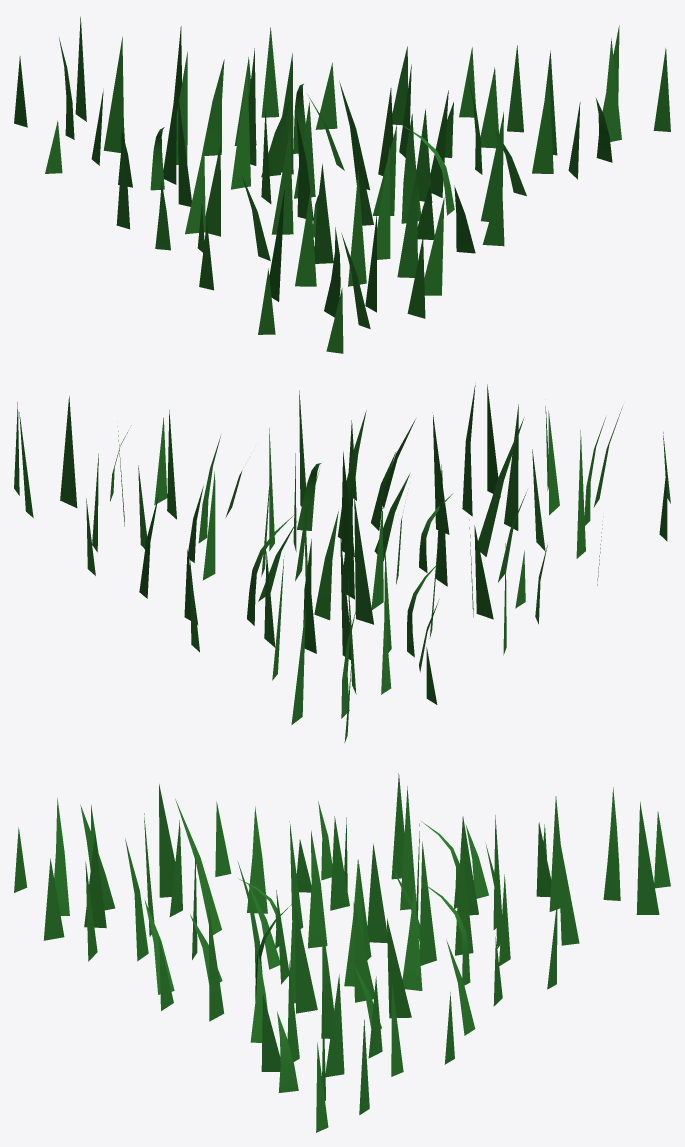
The model's file is grass_patches_set_triangle_mini_light.fbx.
3 renders of one model, top to bottom at view 1: azimuth 30°, elevation 25°; view 2: azimuth 150°, elevation 25°; view 3: azimuth 270°, elevation 25°, orthographic. The views are drawn at different scales.
Parts seen in each view (by area): view 1: grass_ground_paint_A686, grass_ground_paint_B143, grass_ground_paint_A553, grass_ground_paint_A417, grass_ground_paint_A420, grass_ground_paint_B194, grass_ground_paint_A355, grass_ground_paint_A321, grass_ground_paint_B244, grass_ground_paint_A550, grass_ground_paint_A354, grass_ground_paint_A584 (+47 smaller); view 2: grass_ground_paint_A686, grass_ground_paint_A584, grass_ground_paint_B194, grass_ground_paint_A550, grass_ground_paint_B218, grass_ground_paint_B244, grass_ground_paint_A454, grass_ground_paint_A420, grass_ground_paint_A484, grass_ground_paint_B143, grass_ground_paint_A252, grass_ground_paint_A321 (+14 smaller); view 3: grass_ground_paint_A683, grass_ground_paint_A187, grass_ground_paint_B320, grass_ground_paint_A157, grass_ground_paint_A486, grass_ground_paint_A453, grass_ground_paint_A616, grass_ground_paint_B67, grass_ground_paint_A484, grass_ground_paint_C102, grass_ground_paint_A283, grass_ground_paint_B197 (+38 smaller).
Boxes of the visible parts, x1,y1,x2,y2 form: grass_ground_paint_A686: [231, 67, 250, 189]; grass_ground_paint_B143: [397, 167, 417, 277]; grass_ground_paint_A553: [103, 36, 123, 152]; grass_ground_paint_A417: [532, 75, 553, 173]; grass_ground_paint_A420: [271, 128, 293, 234]; grass_ground_paint_B194: [314, 163, 333, 263]; grass_ground_paint_A355: [295, 190, 316, 286]; grass_ground_paint_A321: [424, 197, 444, 295]; grass_ground_paint_B244: [202, 59, 224, 155]; grass_ground_paint_A550: [348, 172, 366, 286]; grass_ground_paint_A354: [377, 145, 390, 259]; grass_ground_paint_A584: [604, 38, 621, 141]; grass_ground_paint_A686: [354, 498, 373, 624]; grass_ground_paint_A584: [60, 396, 77, 507]; grass_ground_paint_B194: [478, 417, 524, 556]; grass_ground_paint_A550: [504, 404, 518, 530]; grass_ground_paint_B218: [314, 511, 338, 620]; grass_ground_paint_B244: [303, 539, 316, 653]; grass_ground_paint_A454: [474, 525, 493, 619]; grass_ground_paint_A420: [435, 464, 447, 586]; grass_ground_paint_A484: [202, 471, 215, 580]; grass_ground_paint_B143: [462, 385, 475, 516]; grass_ground_paint_A252: [343, 490, 354, 599]; grass_ground_paint_A321: [487, 384, 500, 497]; grass_ground_paint_A683: [636, 801, 659, 914]; grass_ground_paint_A187: [295, 905, 317, 1013]; grass_ground_paint_B320: [308, 830, 327, 948]; grass_ground_paint_A157: [159, 784, 175, 897]; grass_ground_paint_A486: [419, 841, 436, 965]; grass_ground_paint_A453: [367, 843, 387, 942]; grass_ground_paint_A616: [557, 827, 579, 945]; grass_ground_paint_B67: [402, 888, 422, 990]; grass_ground_paint_A484: [387, 918, 411, 1018]; grass_ground_paint_C102: [603, 787, 620, 900]; grass_ground_paint_A283: [325, 974, 344, 1077]; grass_ground_paint_B197: [247, 806, 267, 913].
Bounding box in the file's own units: 222 × 51.69 × 237.
